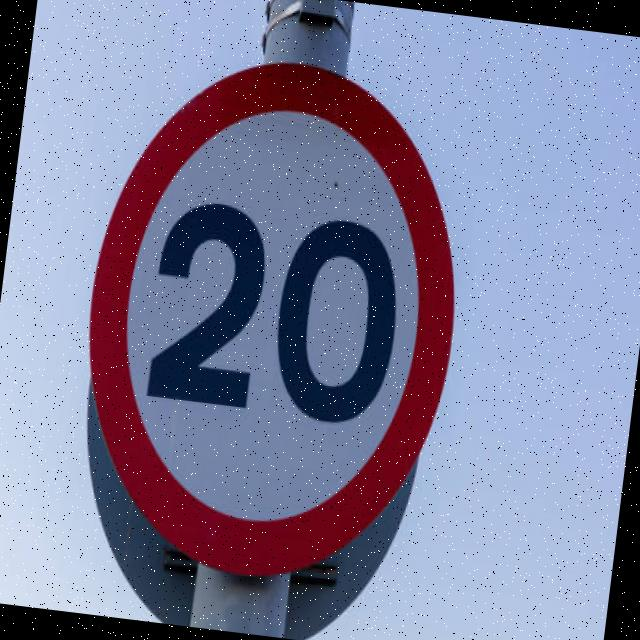speed_limit_20: (48, 34, 493, 604)
